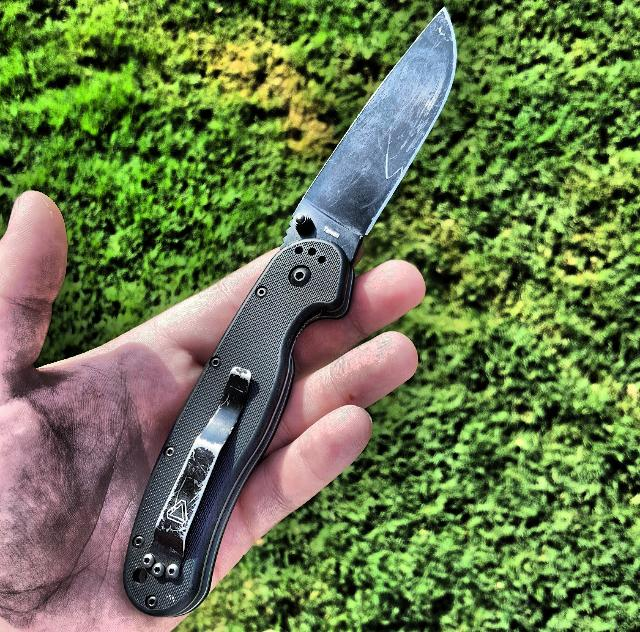knife: (107, 1, 463, 620)
